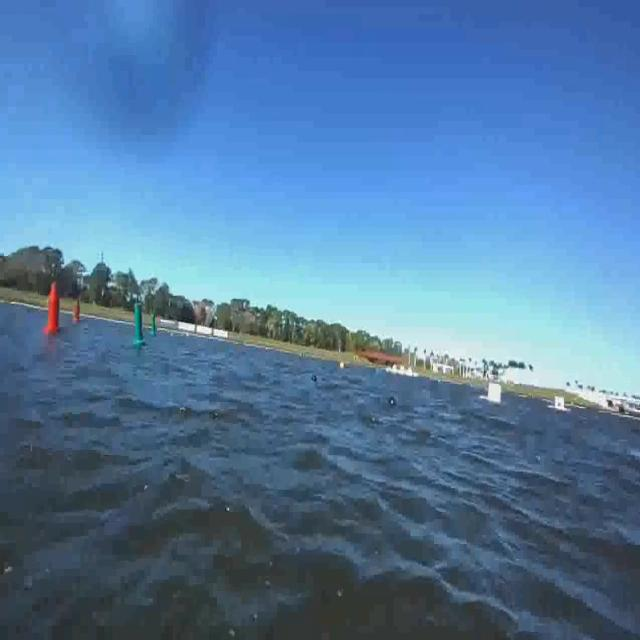black-buoy: (389, 396, 398, 408), (312, 374, 318, 384)
green-column-buoy: (134, 302, 146, 345), (151, 313, 157, 339)
red-column-buoy: (46, 283, 63, 336), (74, 302, 81, 324)
yellow-buoy: (340, 360, 346, 370)
